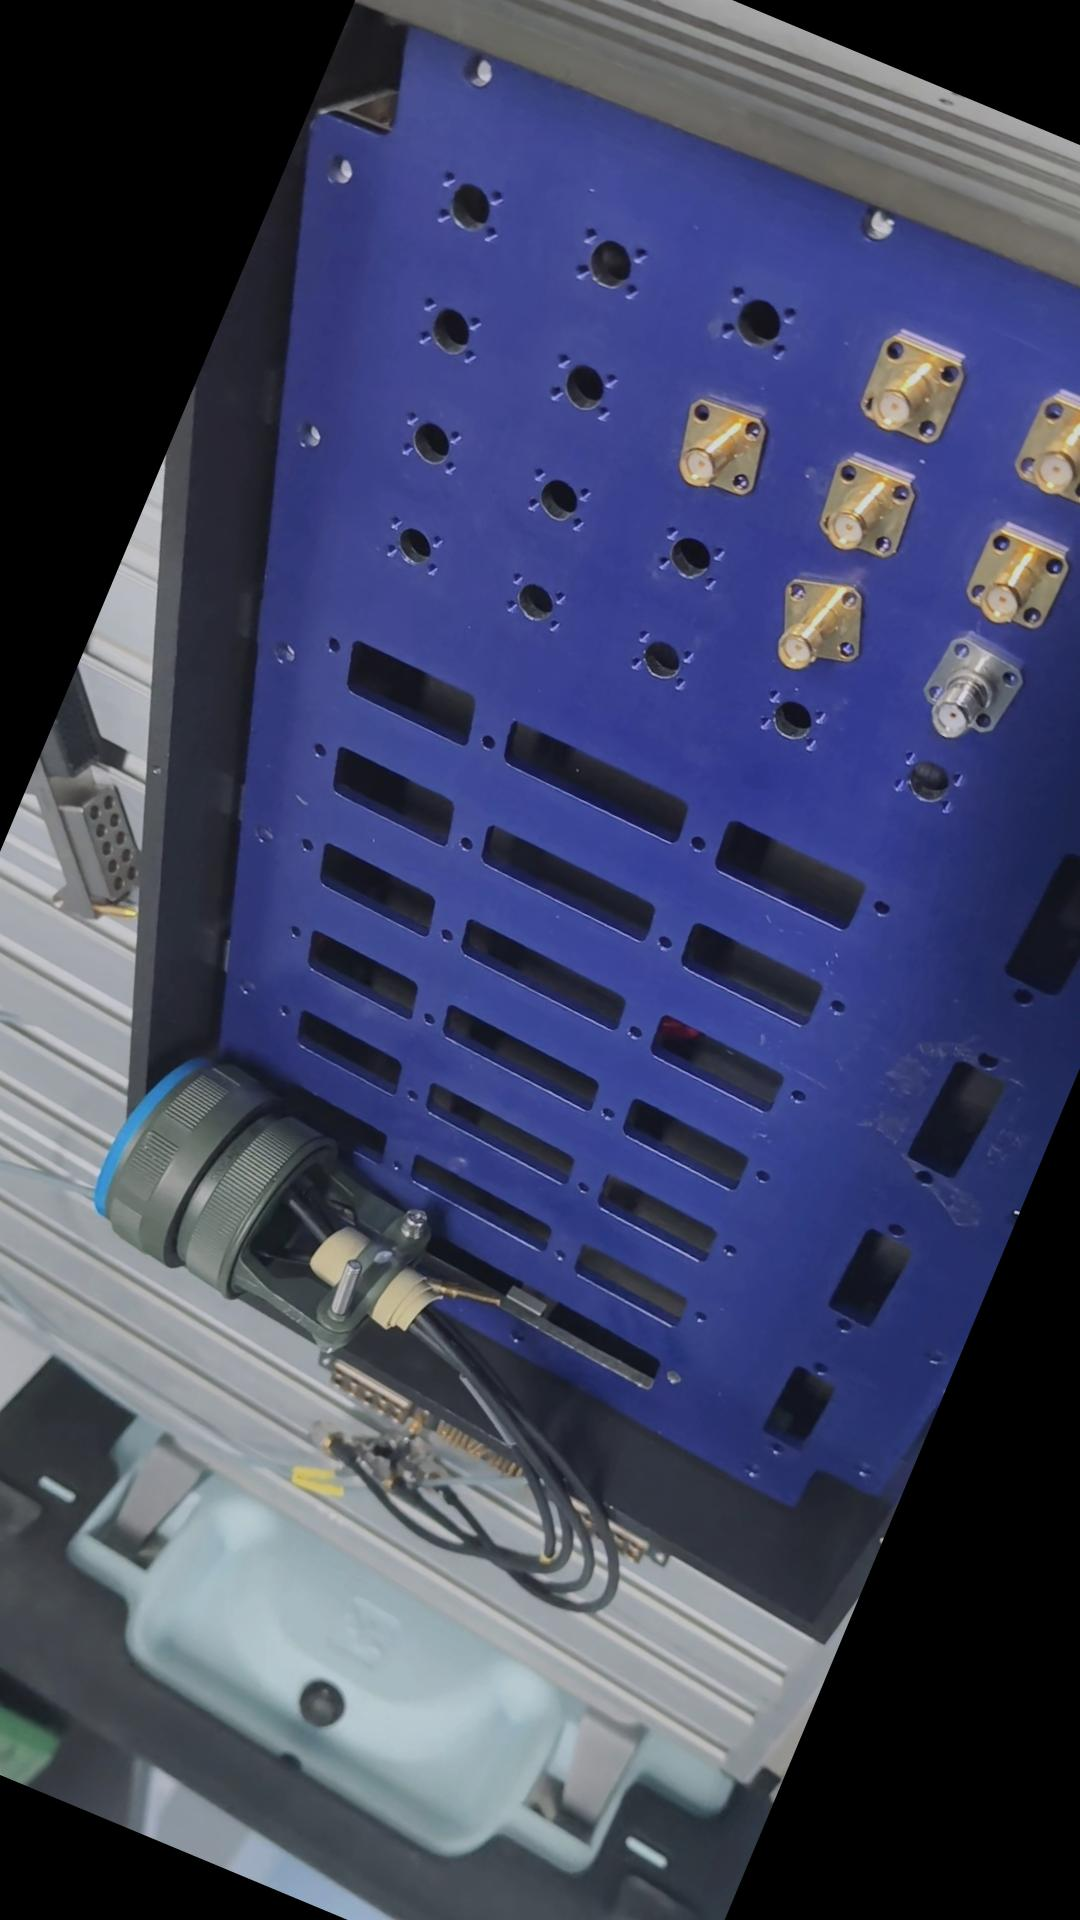SMA: (906, 624, 1035, 756), (847, 319, 975, 452), (752, 555, 876, 686), (957, 516, 1073, 634), (663, 385, 775, 505), (806, 448, 914, 566), (996, 375, 1080, 520)
